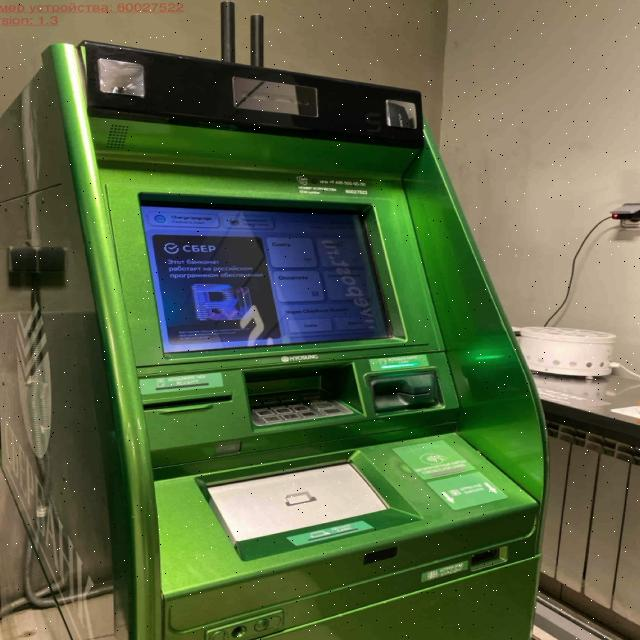bank: (0, 46, 547, 640)
